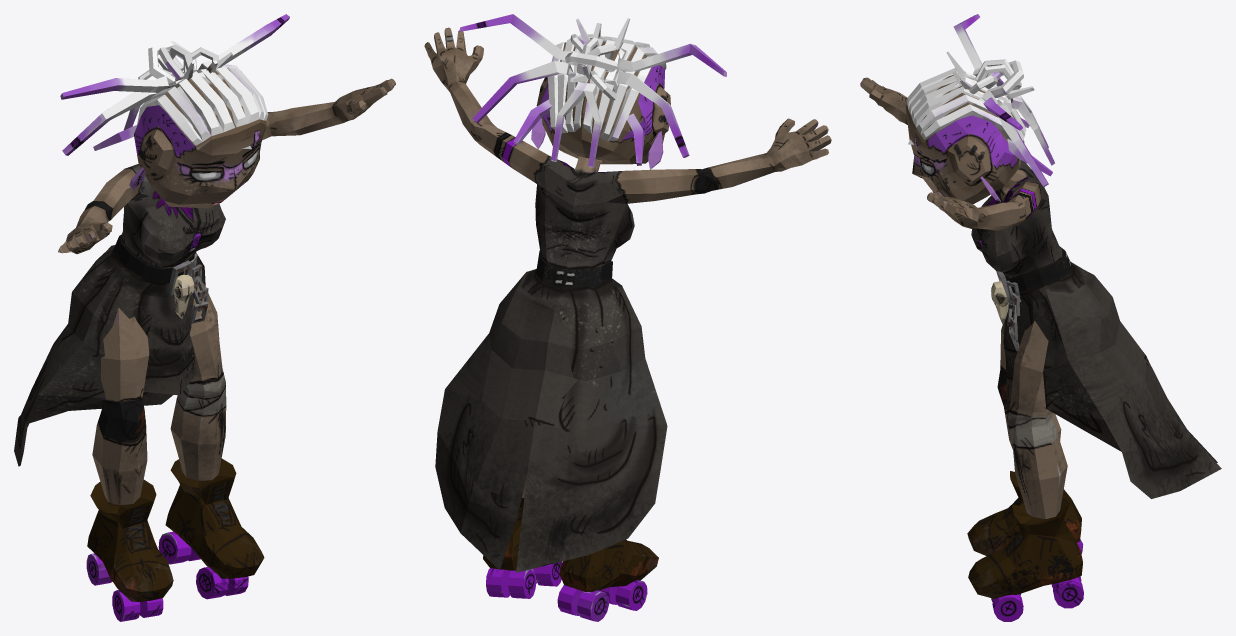
File: bruja_000139.obj
The picture shows the model from 3 angles, left to right: view 1: azimuth 30°, elevation 25°; view 2: azimuth 150°, elevation 25°; view 3: azimuth 270°, elevation 25°; orthographic projection. The views are drawn at different scales.
Parts seen in each view (by area): view 1: Bruja_Plane.001; view 2: Bruja_Plane.001; view 3: Bruja_Plane.001.
Part boxes in pixels (bbox=[...]): Bruja_Plane.001: bbox=[14, 14, 395, 621]; Bruja_Plane.001: bbox=[424, 14, 831, 621]; Bruja_Plane.001: bbox=[860, 14, 1221, 621].
Size of the model in its own units: 10.99 by 16.12 by 9.88.
